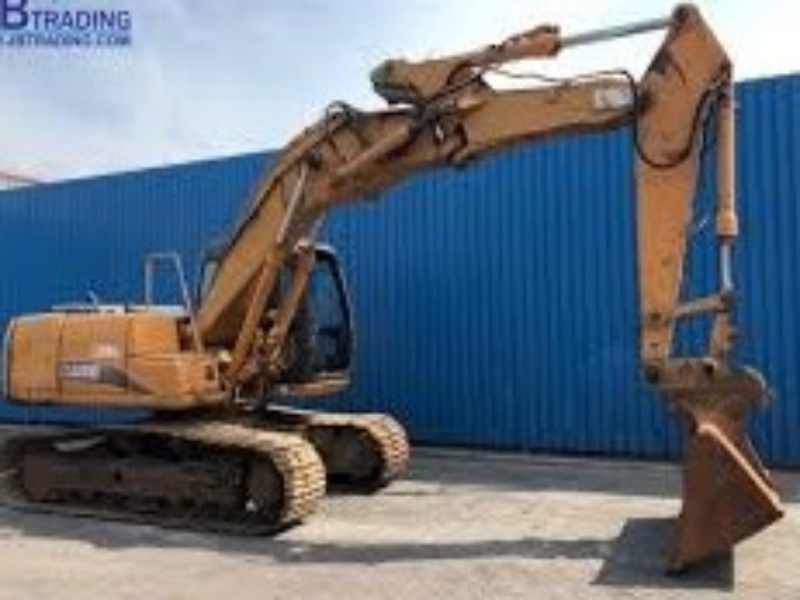wajueji: (8, 150, 528, 557)
